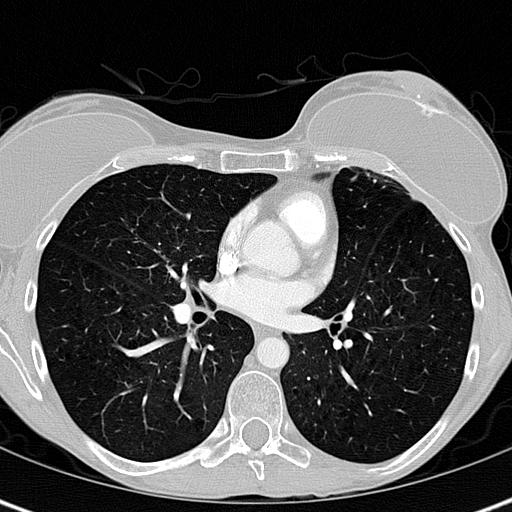nodule: (341, 336, 356, 351)
